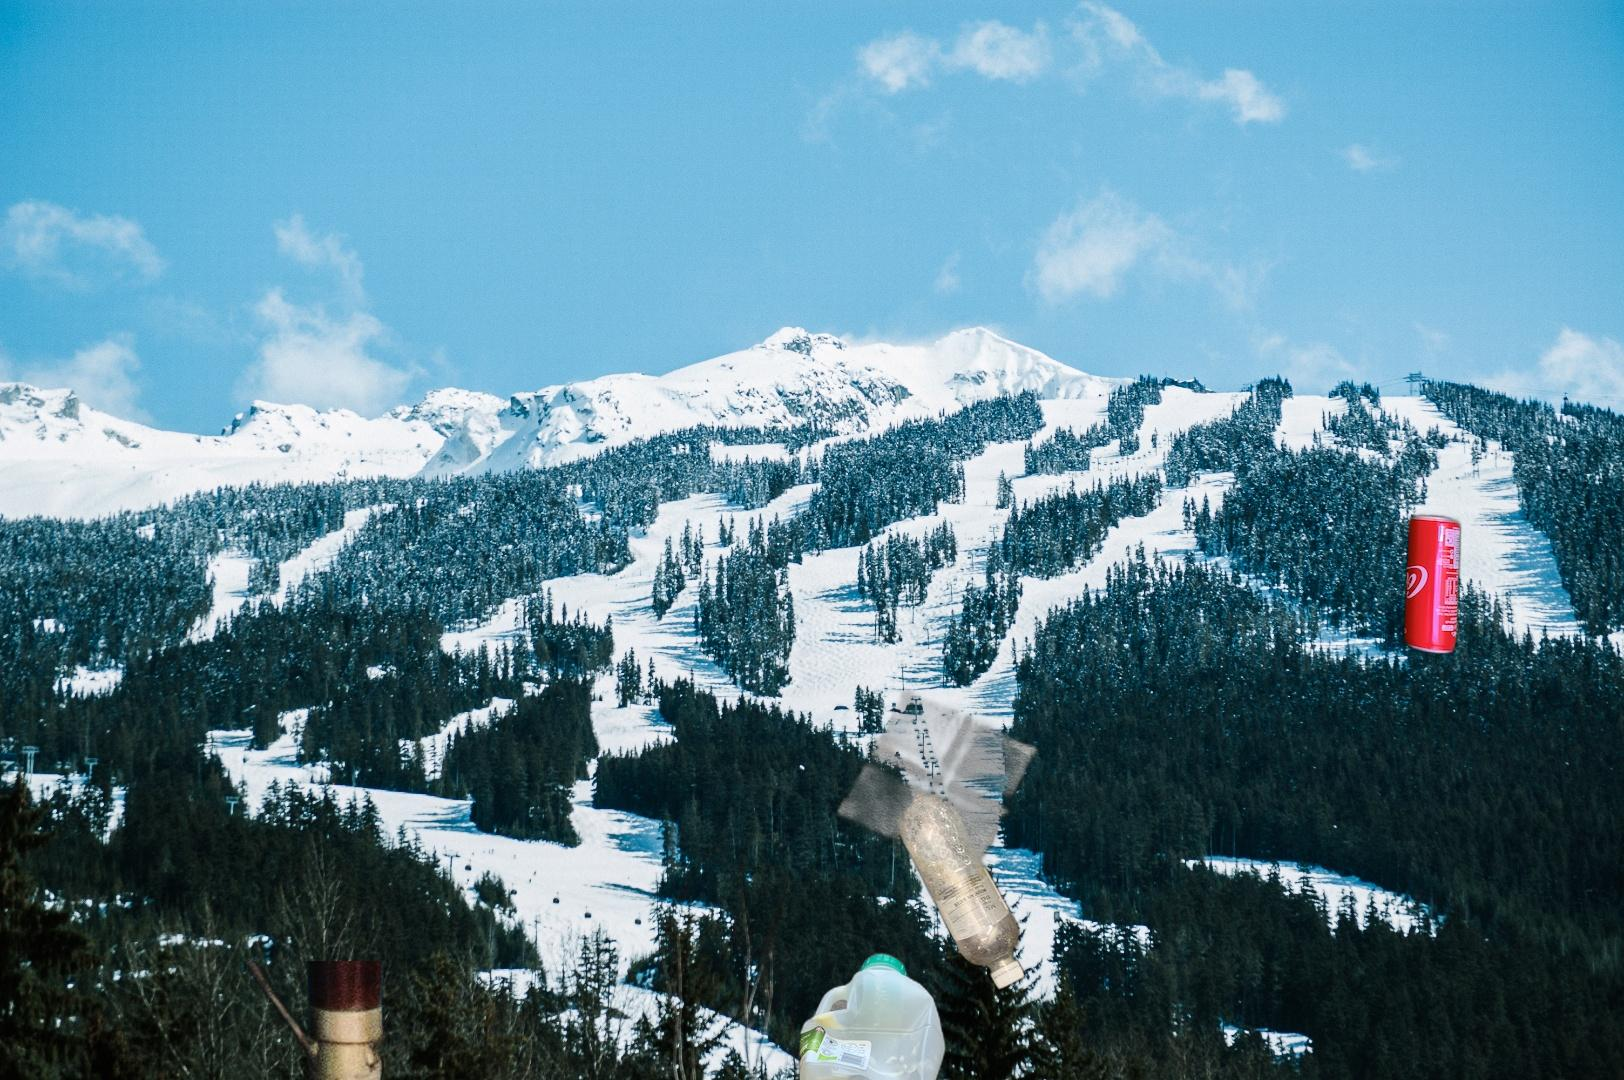metal-cans: (1398, 509, 1466, 661)
paper-bag: (214, 961, 395, 1080)
plastic-bottles: (832, 683, 1049, 996), (794, 946, 951, 1080)
